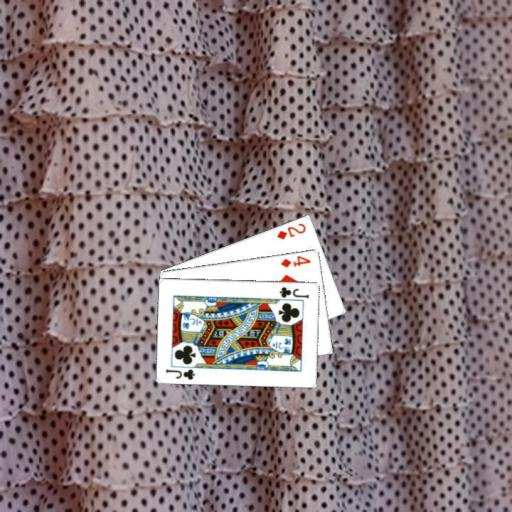2D: (274, 220, 307, 241)
4D: (278, 252, 312, 269)
JC: (277, 283, 311, 299), (163, 366, 196, 381)
